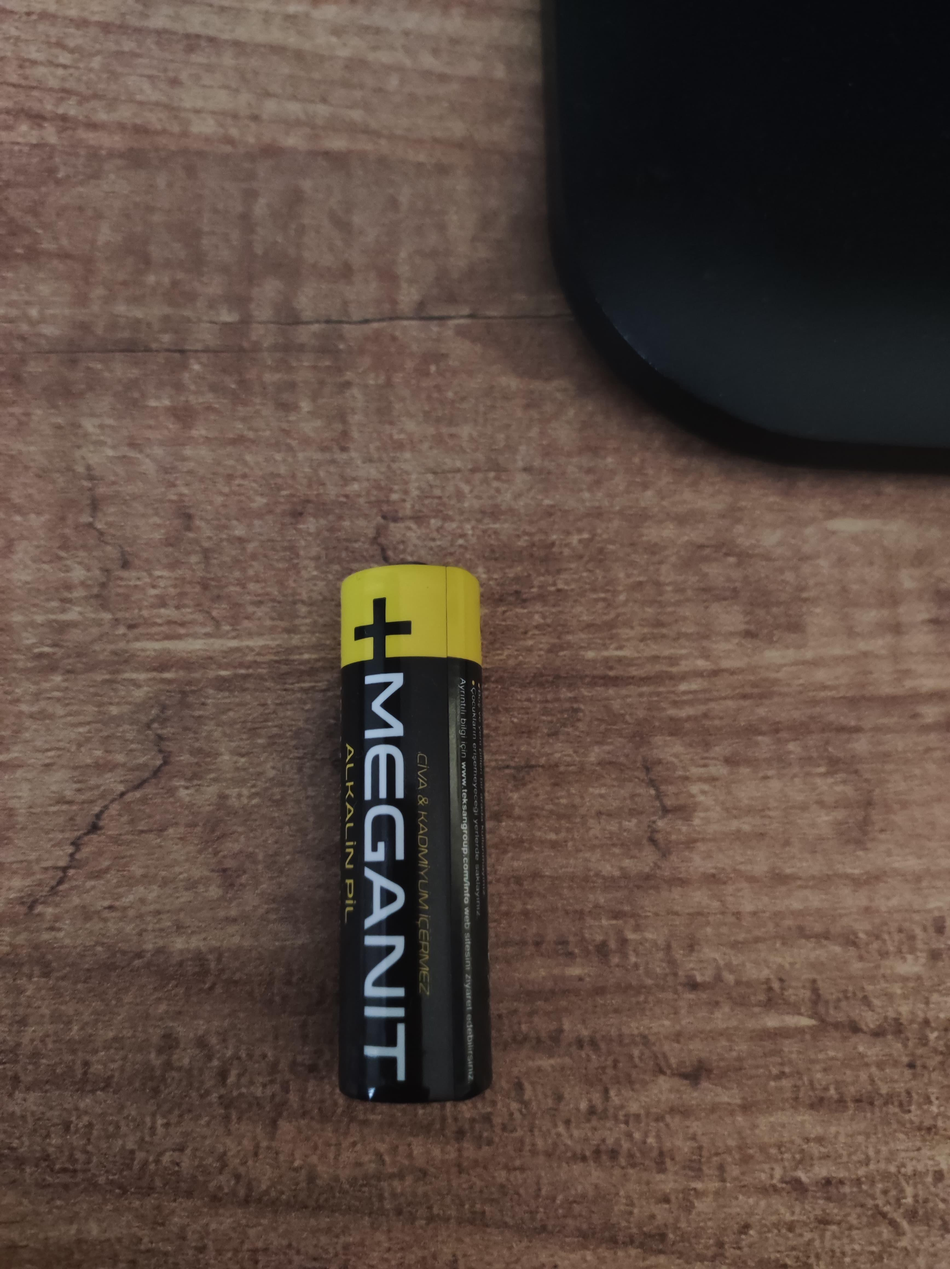AA: (336, 562, 493, 1103)
